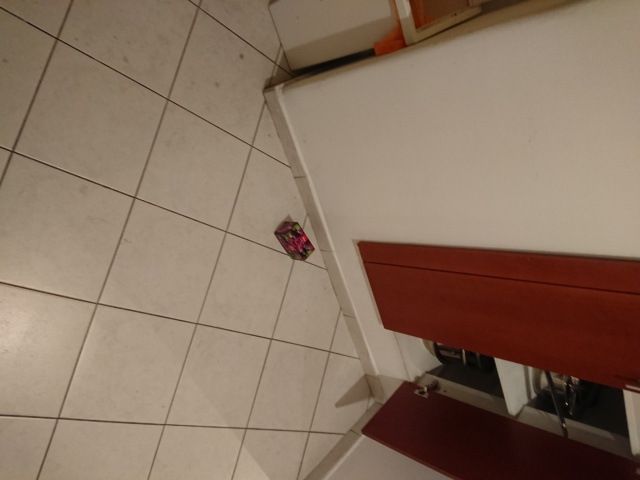Franck Black Currant Tea 60g: (272, 220, 317, 261)
